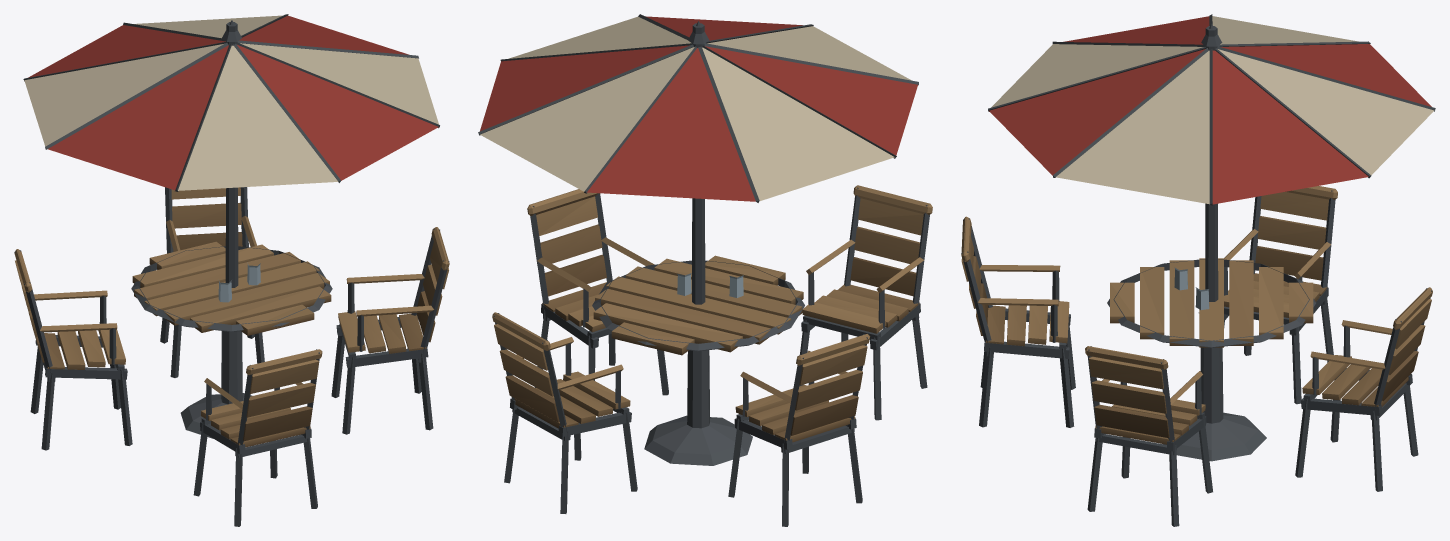
Rendered from patio-table-chairs.glb.
3 renders of one model, left to right at view 1: azimuth 30°, elevation 25°; view 2: azimuth 150°, elevation 25°; view 3: azimuth 270°, elevation 25°, orthographic. The views are drawn at different scales.
Visible parts, largest first — view 1: patio_table_chairs; view 2: patio_table_chairs; view 3: patio_table_chairs.
Boxes of the visible parts, x1=… form: patio_table_chairs: x1=14, y1=14, x2=449, y2=526; patio_table_chairs: x1=478, y1=14, x2=932, y2=526; patio_table_chairs: x1=961, y1=14, x2=1435, y2=526.
Bounding box in the file's own units: 2.11 × 2.18 × 2.23.
